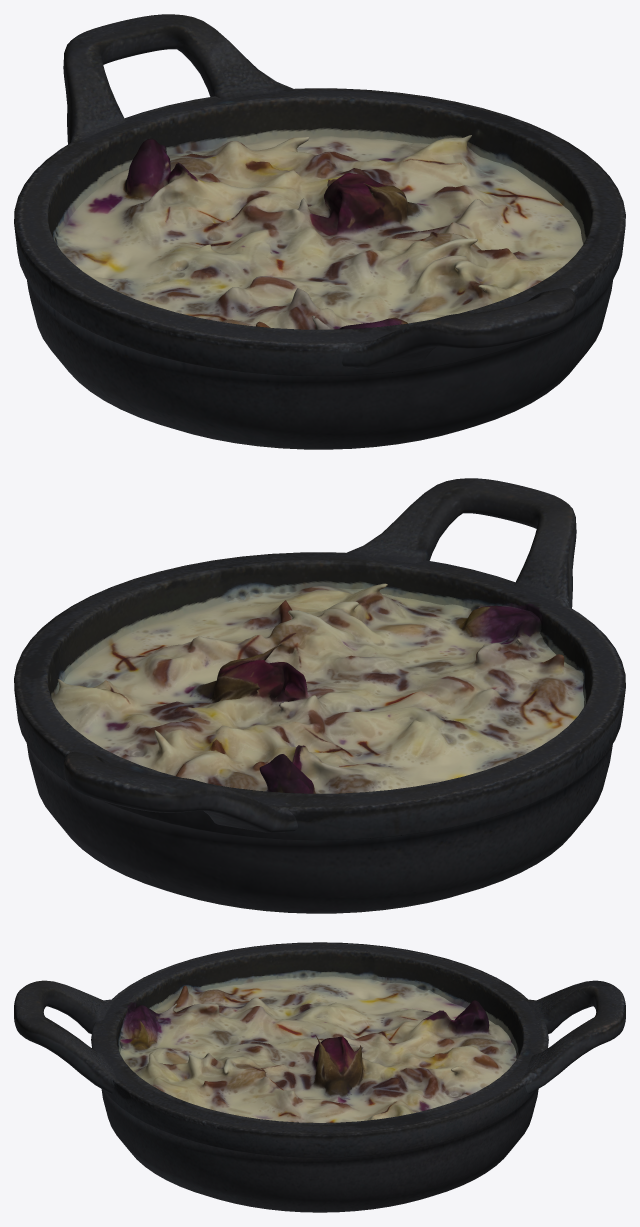
Rendered from Kheer.FBX.
The picture shows the model from 3 angles, top to bottom: view 1: azimuth 30°, elevation 25°; view 2: azimuth 150°, elevation 25°; view 3: azimuth 270°, elevation 25°; orthographic projection. The views are drawn at different scales.
Visible parts, largest first — view 1: Kheer; view 2: Kheer; view 3: Kheer.
Part boxes in pixels (box(x1,y1,x2,y2)): Kheer: box(14, 14, 625, 449); Kheer: box(14, 478, 625, 913); Kheer: box(14, 942, 625, 1212).
Size of the model in its own units: 2.04 by 0.6941 by 2.73.
1 material, 1 textured.
